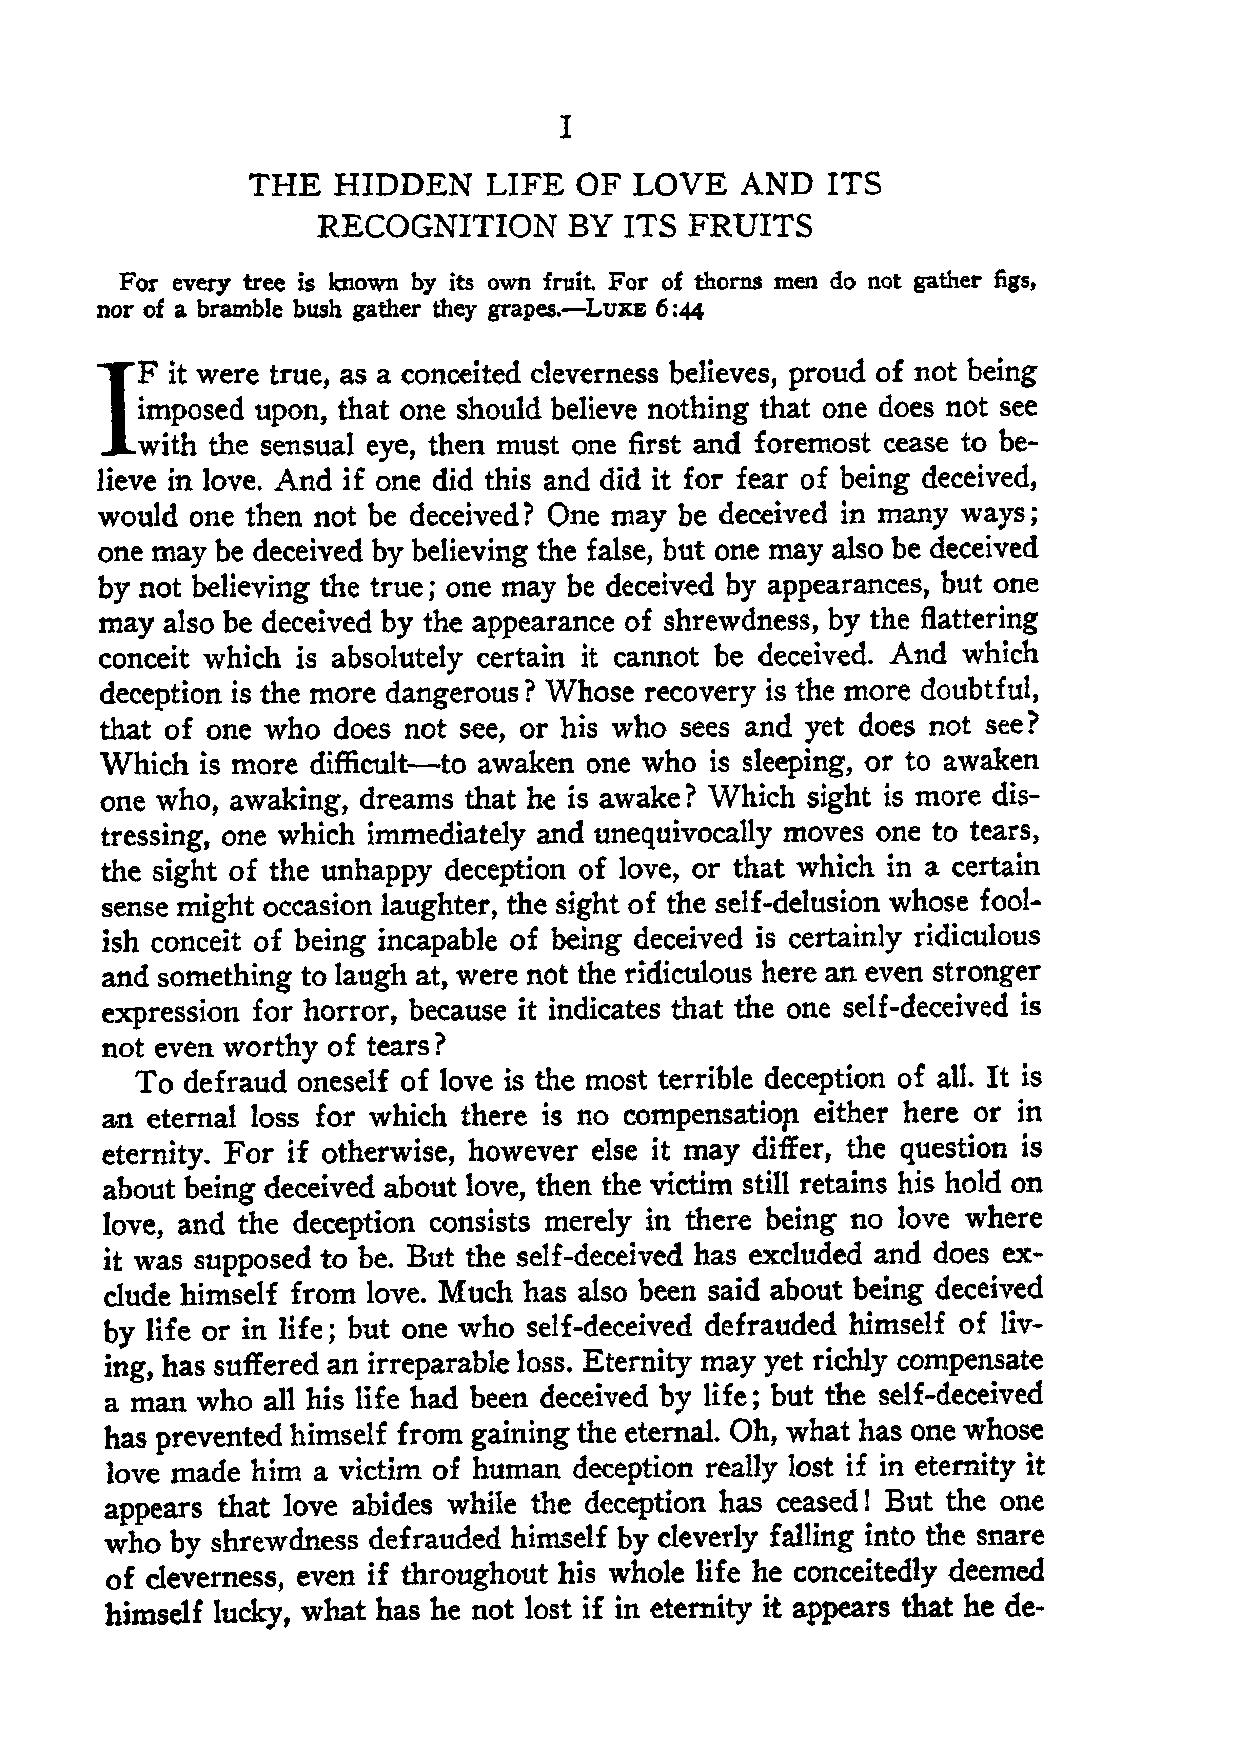chapter: (243, 106, 883, 242)
content: (93, 268, 1045, 1635)
